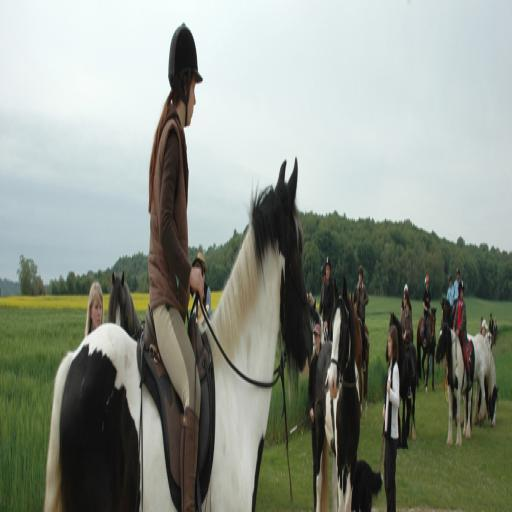horse: (44, 150, 312, 510), (310, 272, 363, 511), (433, 314, 477, 452), (385, 306, 419, 450), (466, 330, 499, 432), (106, 270, 144, 340), (351, 286, 366, 422), (415, 306, 437, 398), (440, 295, 456, 326)
